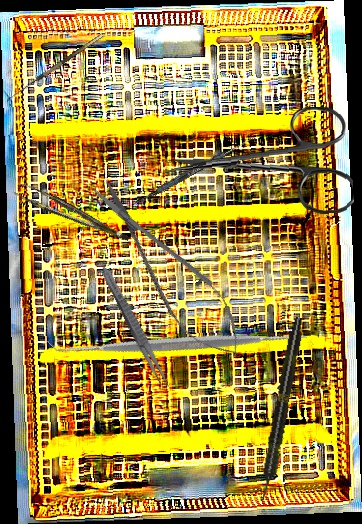Dressing Forceps: (97, 264, 174, 392)
Handpiece: (255, 316, 307, 503)
Hook Surgical: (5, 33, 107, 107)
Iris Scissors: (165, 105, 355, 222)
Micro Scissor: (77, 166, 259, 373)
Spatula Surgical: (47, 209, 314, 477), (131, 132, 257, 210)
Tissue Forceps: (12, 175, 130, 255)
